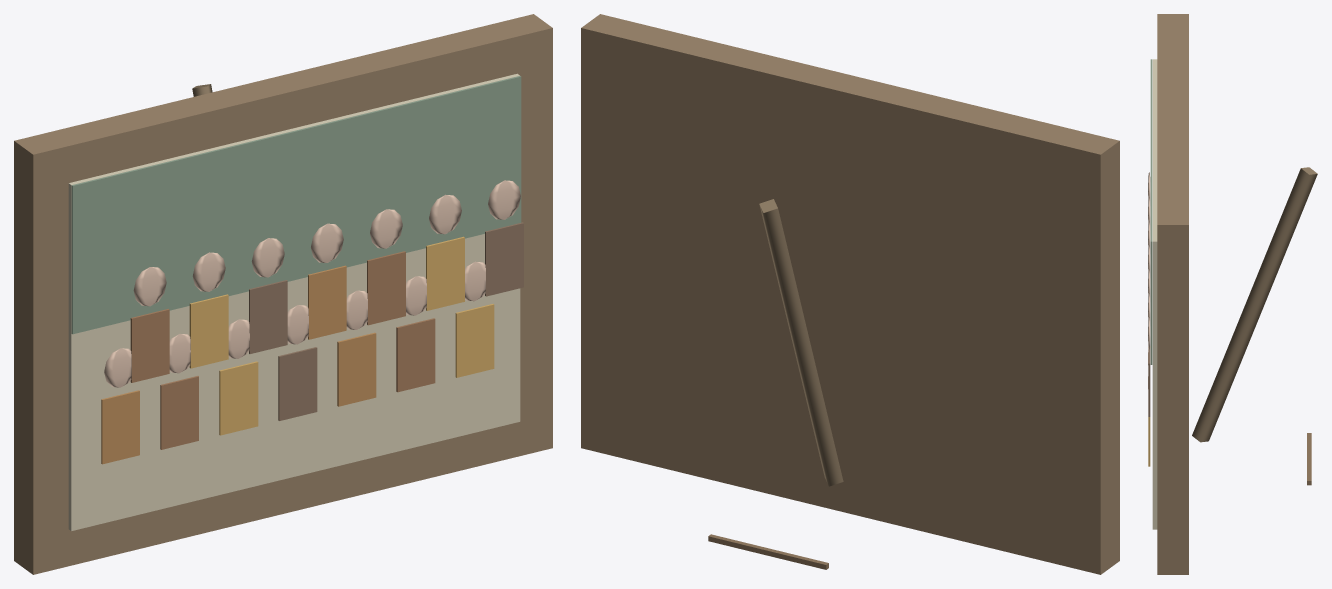
Rendered from committee_photo_a.glb.
3 views of the same model, side by side, from view 1: azimuth 30°, elevation 25°; view 2: azimuth 150°, elevation 25°; view 3: azimuth 270°, elevation 25° (orthographic). The views are drawn at different scales.
Parts seen in each view (by area): view 1: body; view 2: body; view 3: body.
Boxes of the visible parts, x1,y1,x2,y2 form: body: (14,14,552,574); body: (581,14,1119,574); body: (1148,14,1317,574).
Bounding box in the file's own units: 0.22 × 0.17 × 0.0748.
